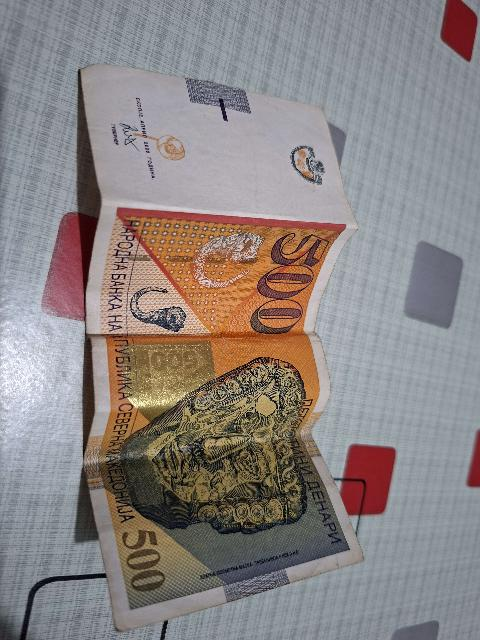note: (84, 52, 358, 637)
